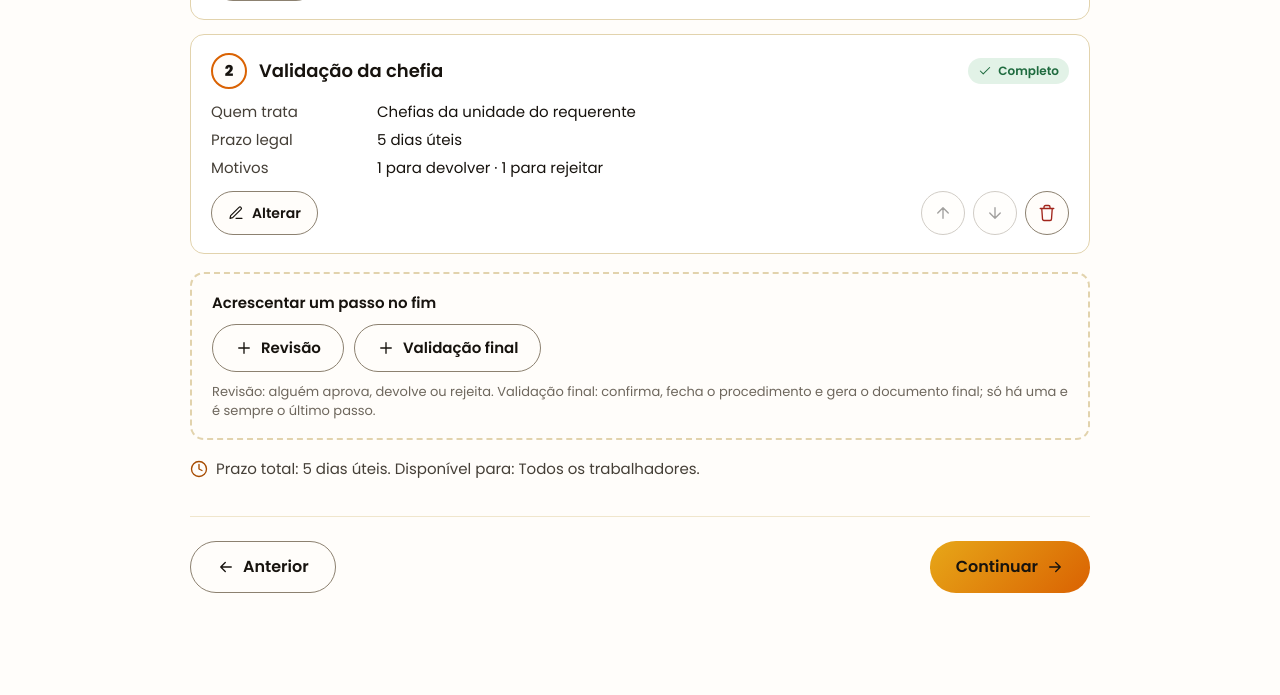
it: the request form › comes after the path, the fourth of five screens
This screenshot has width=1280, height=695.
(page scrolled)
Click the button "Continuar": (1010, 567) 930,541 -> 1090,593
(page scrolled)
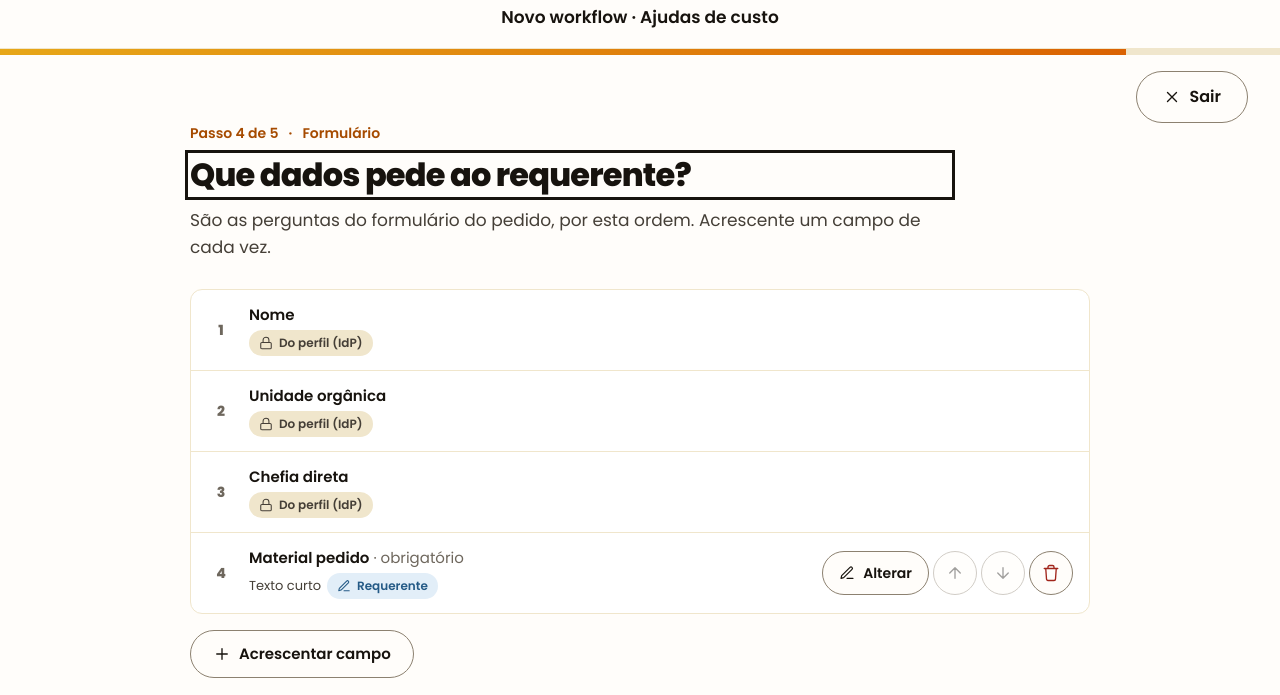
Check: the heading "Que dados pede ao requerente?" is shown, box 190,155 -> 950,195
Check: the text "Passo 4 de 5" is shown, box 190,123 -> 279,143
